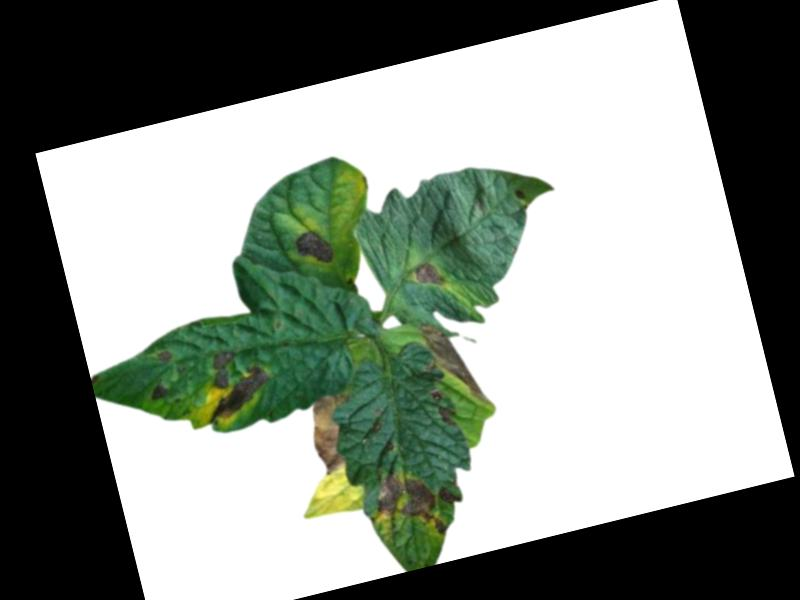Early_blight: (420, 311, 493, 414), (193, 340, 278, 424), (370, 463, 450, 549), (302, 388, 367, 476), (294, 226, 336, 271), (409, 254, 448, 290), (430, 386, 456, 430), (437, 482, 465, 510), (147, 381, 173, 401), (155, 346, 174, 363), (512, 184, 526, 201)
